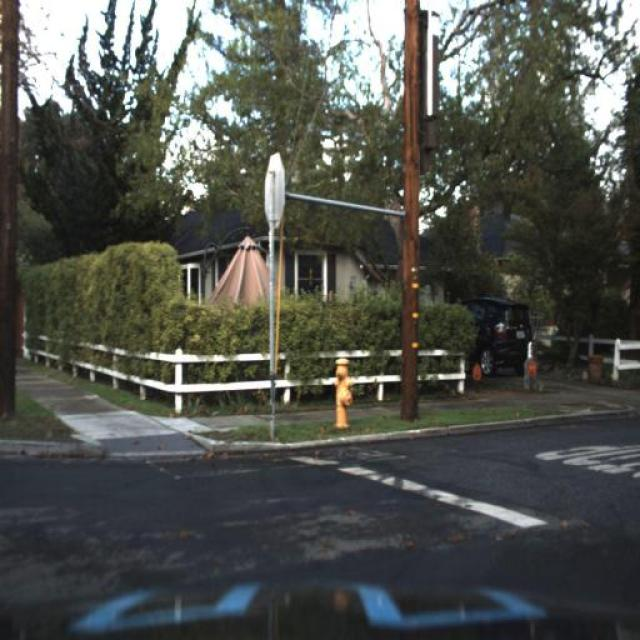car: (435, 290, 541, 390)
